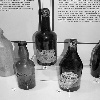beer: (31, 9, 61, 68)
